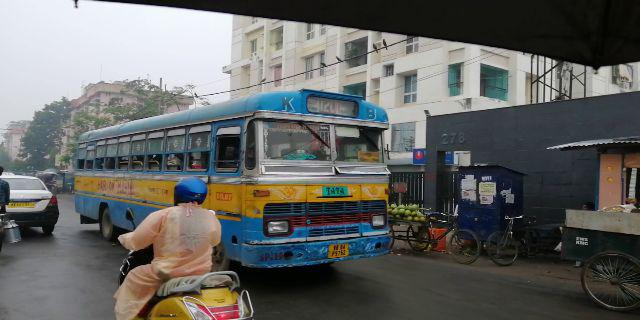Bus: (77, 91, 393, 259)
Car: (1, 170, 63, 241)
Motorbike: (108, 190, 249, 320)
